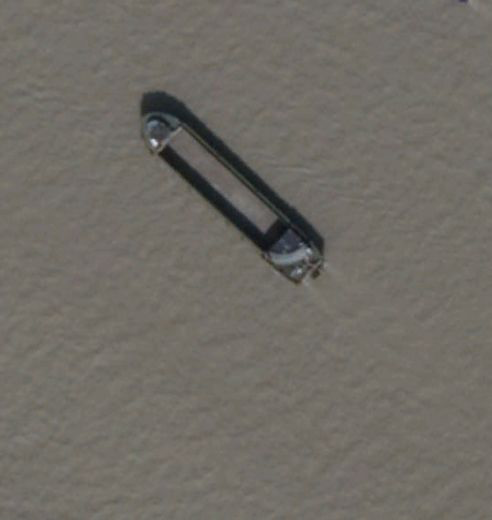boat: (133, 102, 325, 286)
